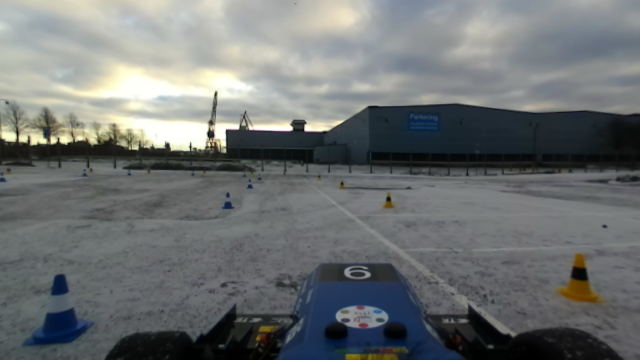blue: (21, 272, 95, 345), (220, 192, 233, 208)
yellow: (555, 252, 602, 305), (382, 191, 395, 211)
